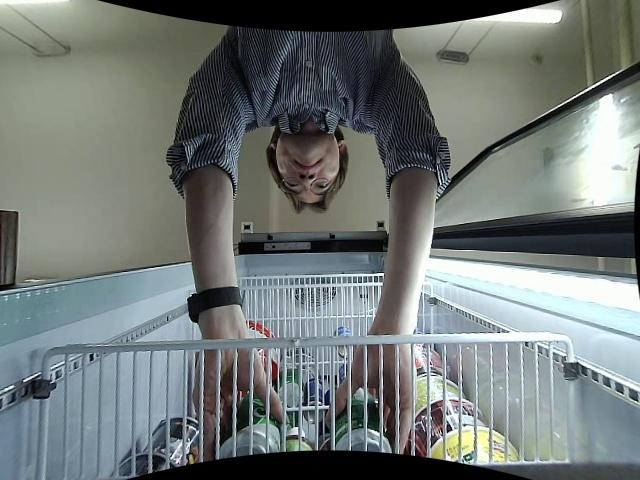00_hand: (193, 344, 287, 464), (321, 339, 415, 455)
12_chilsungCider: (323, 385, 395, 459), (215, 391, 282, 458)
